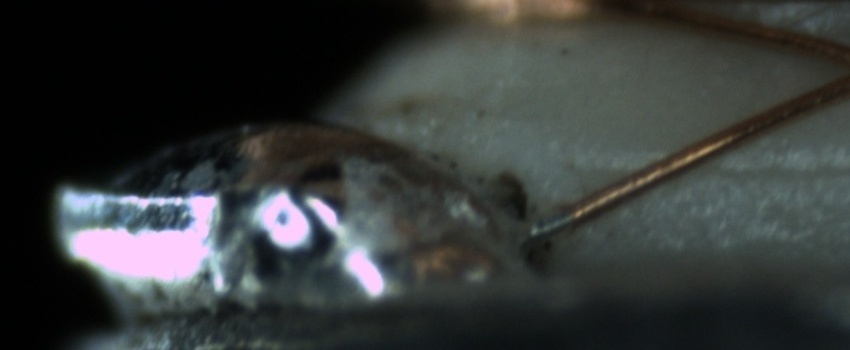DL: (602, 136, 850, 202)
TS: (524, 209, 573, 240)
